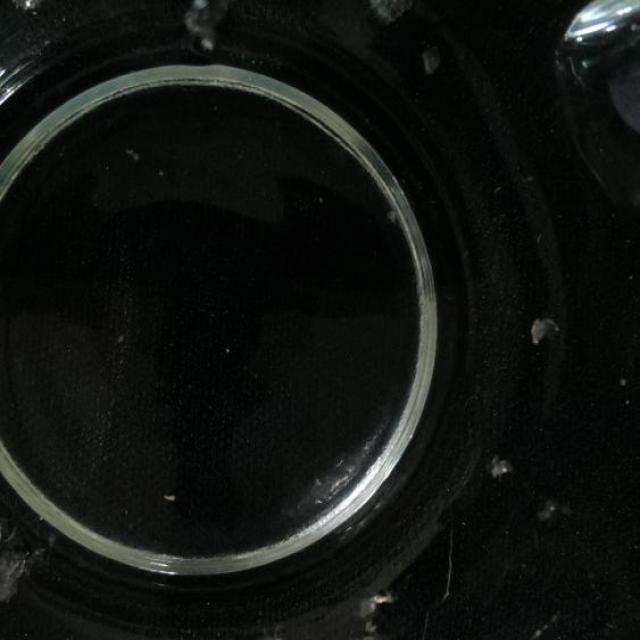fiber: (178, 0, 248, 57), (345, 583, 398, 639), (526, 294, 568, 350), (0, 554, 41, 610), (354, 0, 416, 27), (406, 41, 443, 78), (480, 449, 514, 485), (2, 0, 55, 19), (246, 624, 288, 639)
